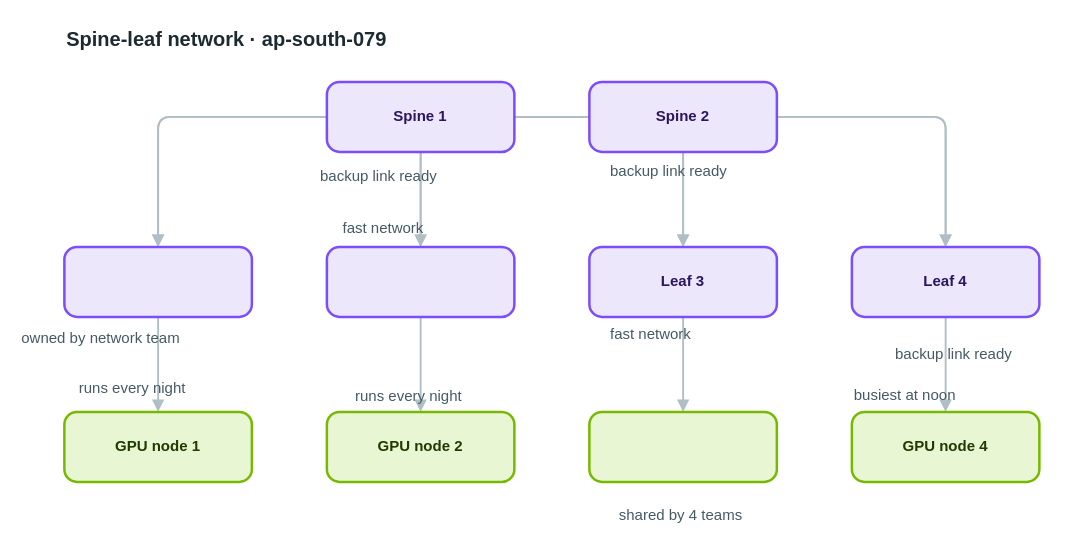
Image size: 1080x546. Some labels were removed from this diagram. Here are the shapes that lost their labels. From the top down, the centre of each, then its label:
At (157,281): "Leaf 1".
At (420,281): "Leaf 2".
At (683,446): "GPU node 3".
